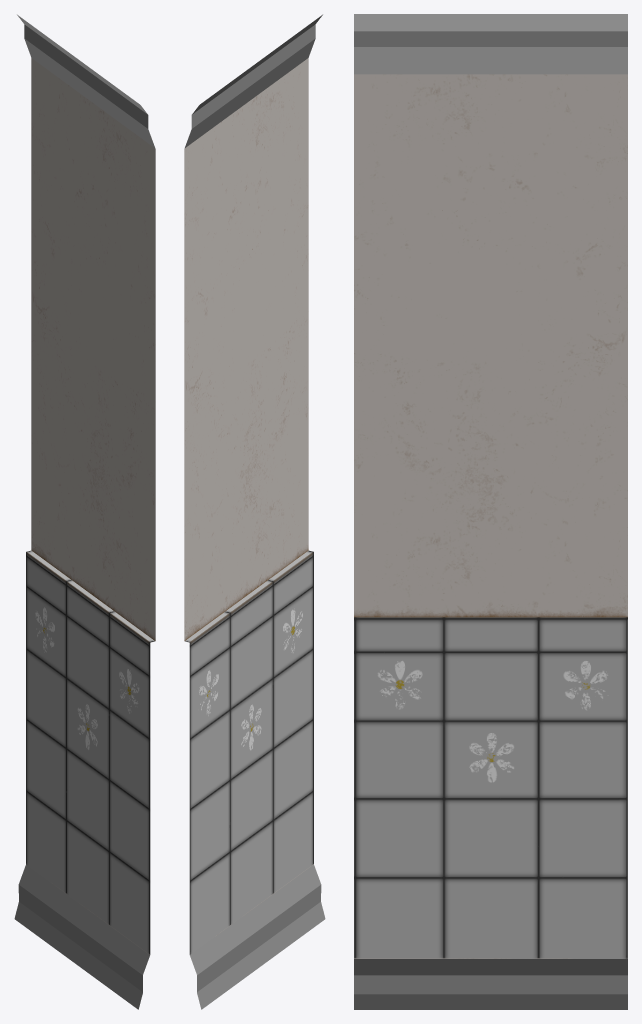
Rendered from Wall_Tile_1m.FBX.
3 views of the same model, side by side, from view 1: azimuth 30°, elevation 25°; view 2: azimuth 150°, elevation 25°; view 3: azimuth 270°, elevation 25° (orthographic). The views are drawn at different scales.
Visible parts, largest first — view 1: Wall_Tile_1m; view 2: Wall_Tile_1m; view 3: Wall_Tile_1m.
Part boxes in pixels (x1,y1,x2,y2): Wall_Tile_1m: (14, 14, 155, 1009); Wall_Tile_1m: (184, 14, 325, 1009); Wall_Tile_1m: (354, 14, 627, 1009).
Bounding box in the file's own units: 7.89 × 402 × 100.
Materials: 2 (1 with a texture image).
